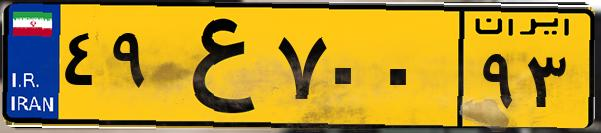0: (385, 28, 445, 110), (330, 28, 385, 110)
3: (525, 38, 570, 115)
4: (57, 26, 110, 100)
7: (270, 28, 330, 110)
9: (475, 38, 525, 113), (110, 28, 158, 98)
ع: (158, 12, 270, 120)
